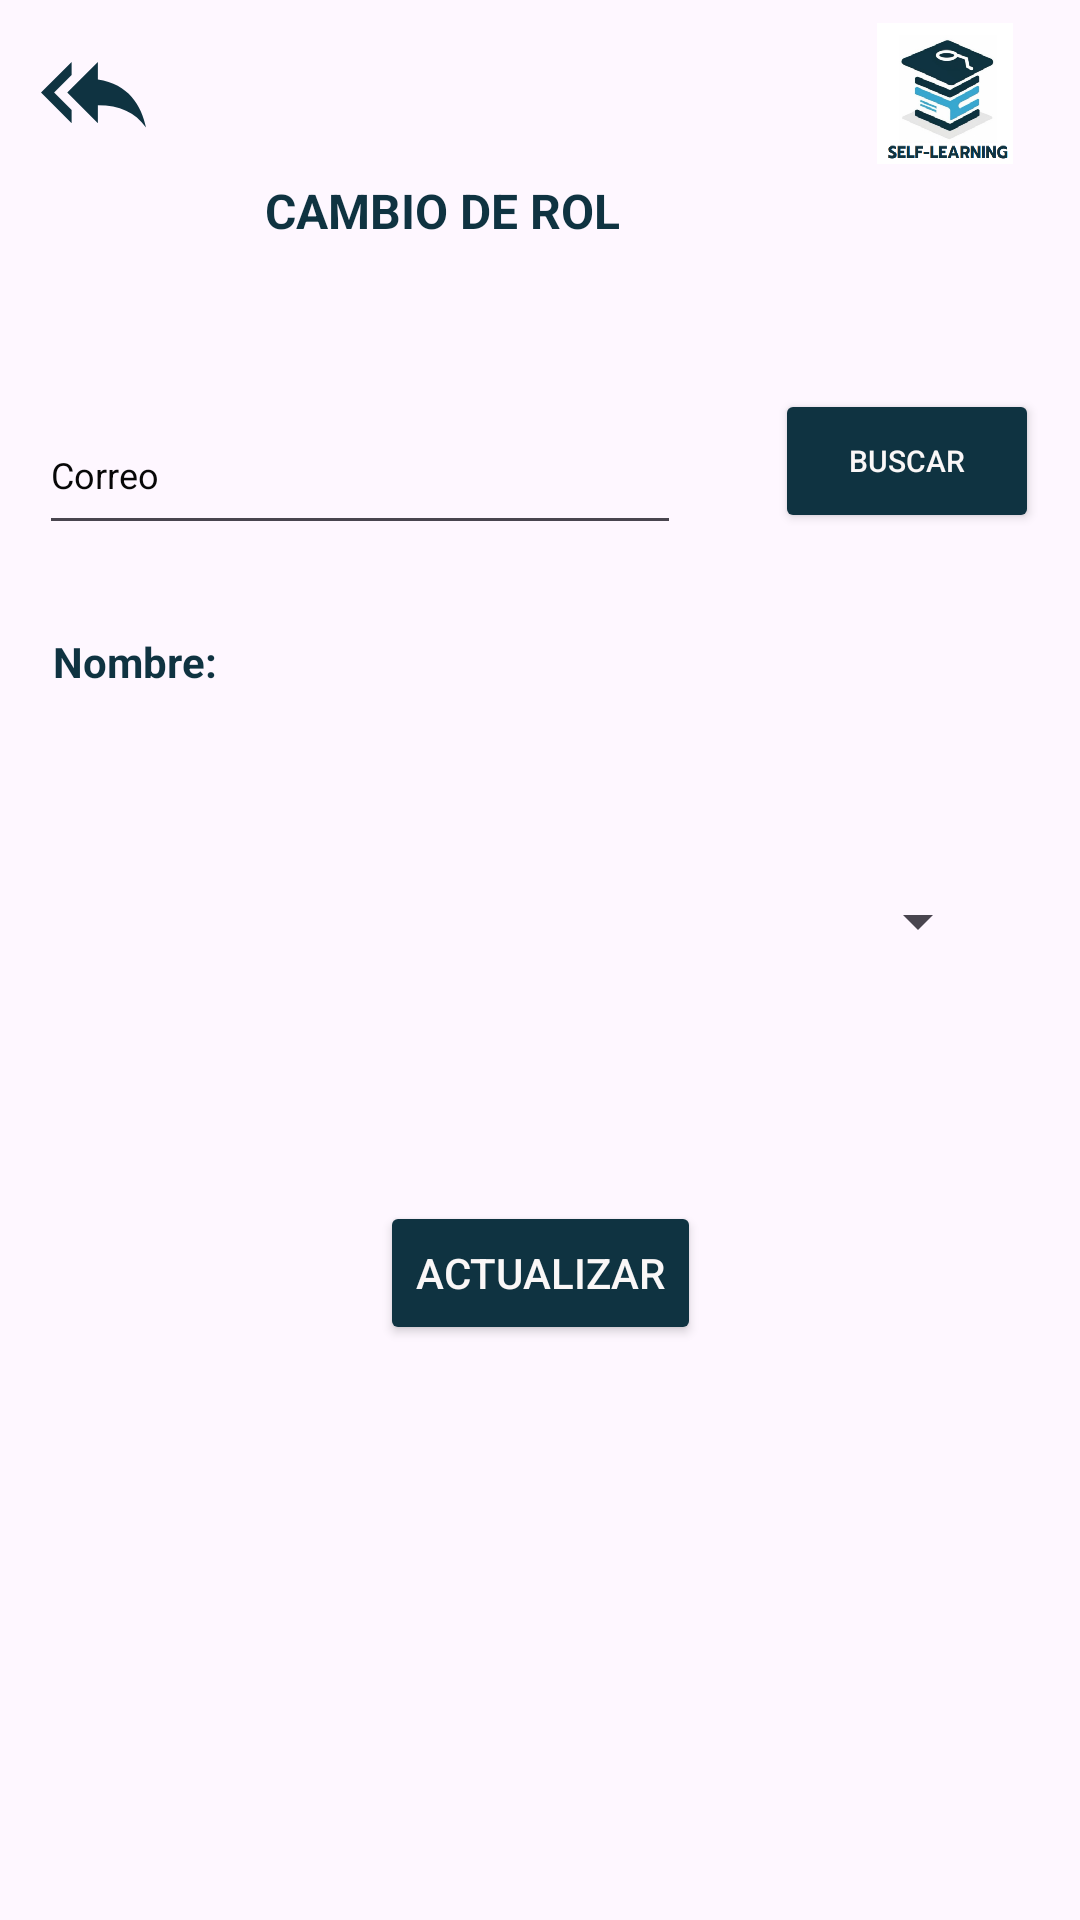

Screen size 1080w x 1920h. Icon name, then its box in pixels as (x1, y1, x2, y2):
backimage: (41, 62, 146, 127)
